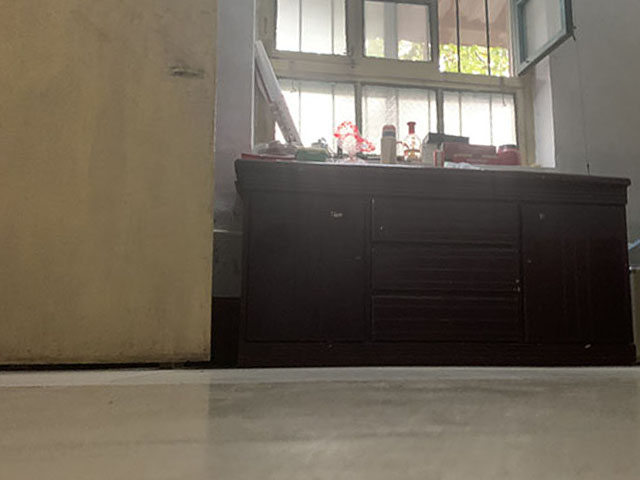cabinet: (230, 154, 628, 366)
